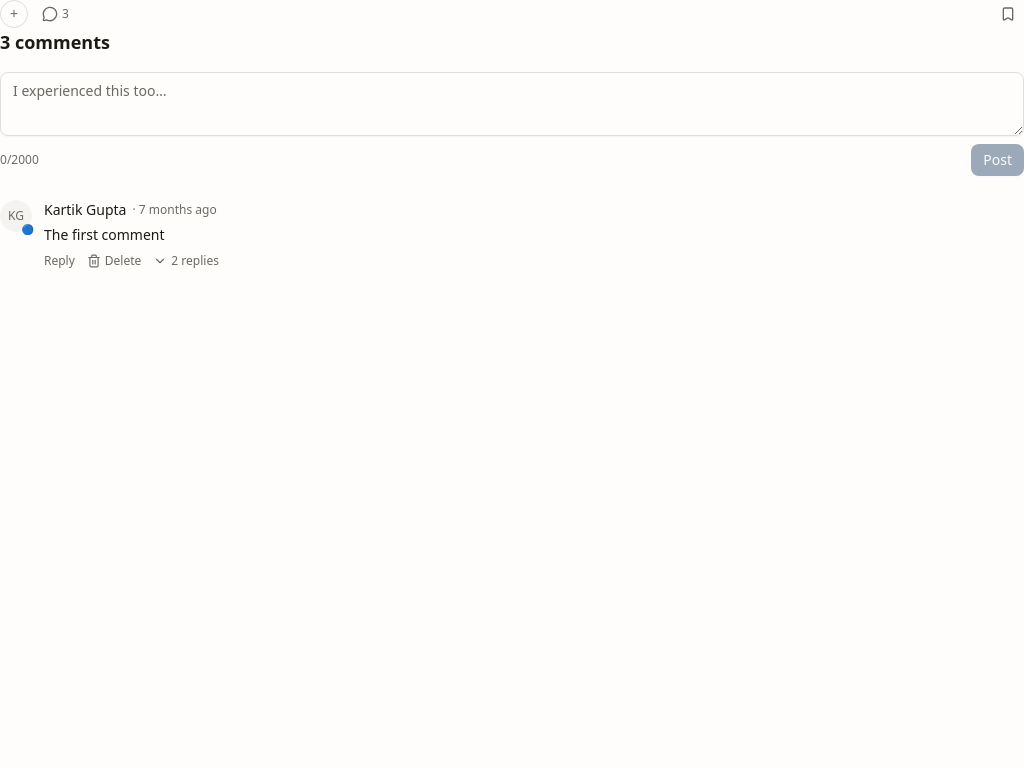
Test case: CommentsSection canonical cache › removes a deleted root and its reply count from the shared total
Check: the text "The first comment" is shown, box [44, 225, 165, 244]
Click the button "Delete". click: (114, 261)
box: [87, 253, 141, 269]
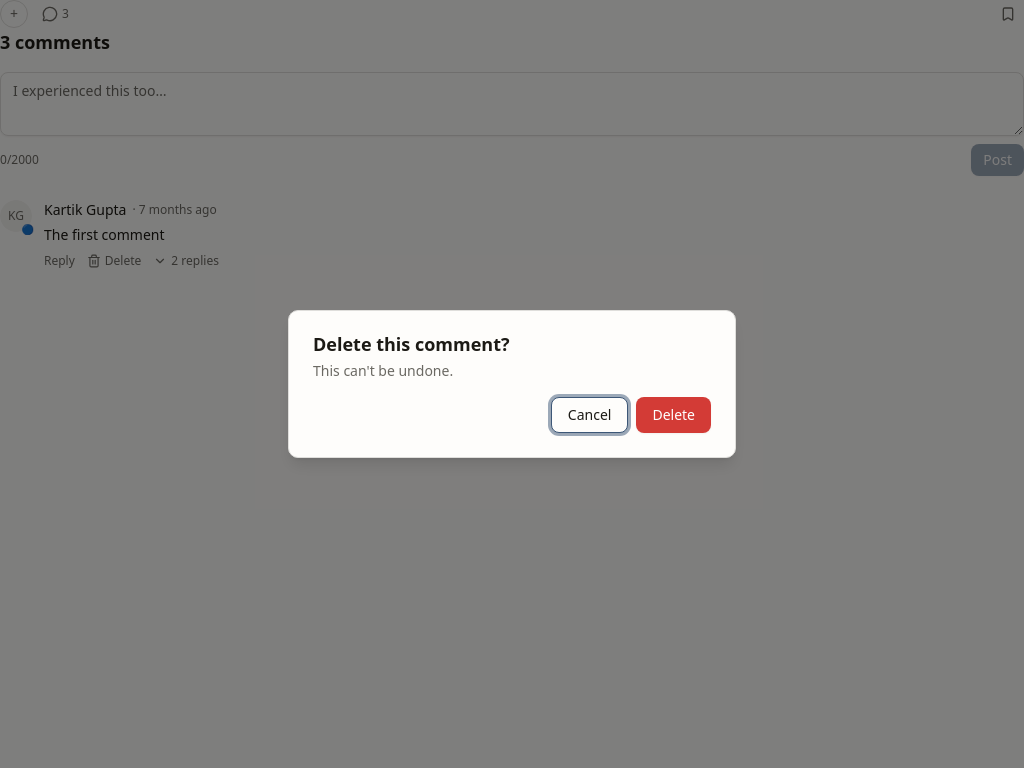
Click the button "Delete". click: (674, 415)
box: [636, 397, 711, 433]
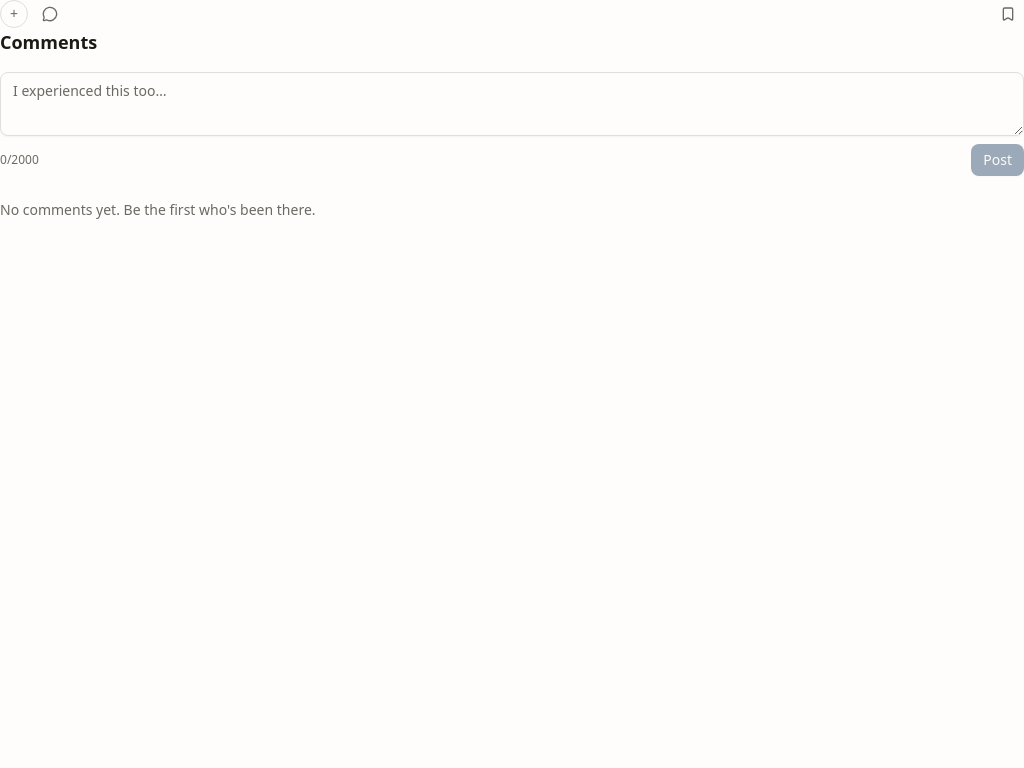
Check: the heading "Comments" is shown, box [0, 30, 97, 54]
Check: the text "The first comment" is gone
Check: the link named "0 comments" is shown, box [42, 6, 58, 22]
